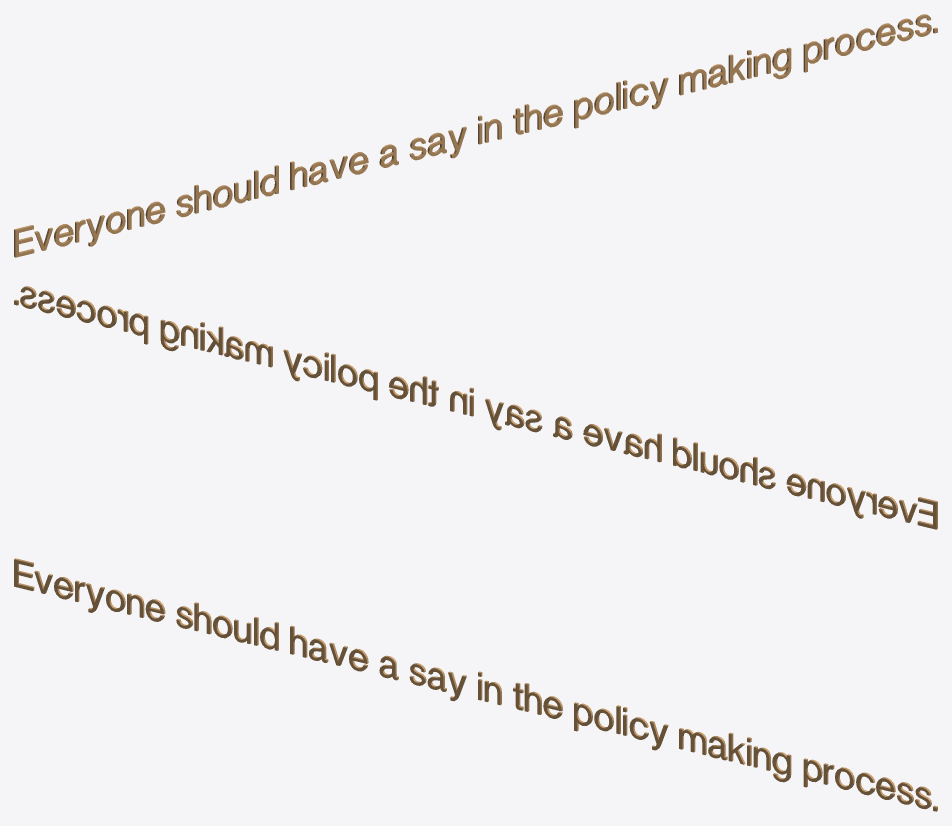
File: everyone.fbx
The picture shows the model from 3 angles, top to bottom: view 1: azimuth 30°, elevation 25°; view 2: azimuth 150°, elevation 25°; view 3: azimuth 330°, elevation 25°; orthographic projection.
Visible parts, largest first — view 1: Text; view 2: Text; view 3: Text.
Part boxes in pixels (x1,y1,x2,y2): Text: [14, 14, 937, 257]; Text: [14, 286, 937, 529]; Text: [14, 558, 937, 811].
Size of the model in its own units: 35.81 by 1.32 by 0.1.
